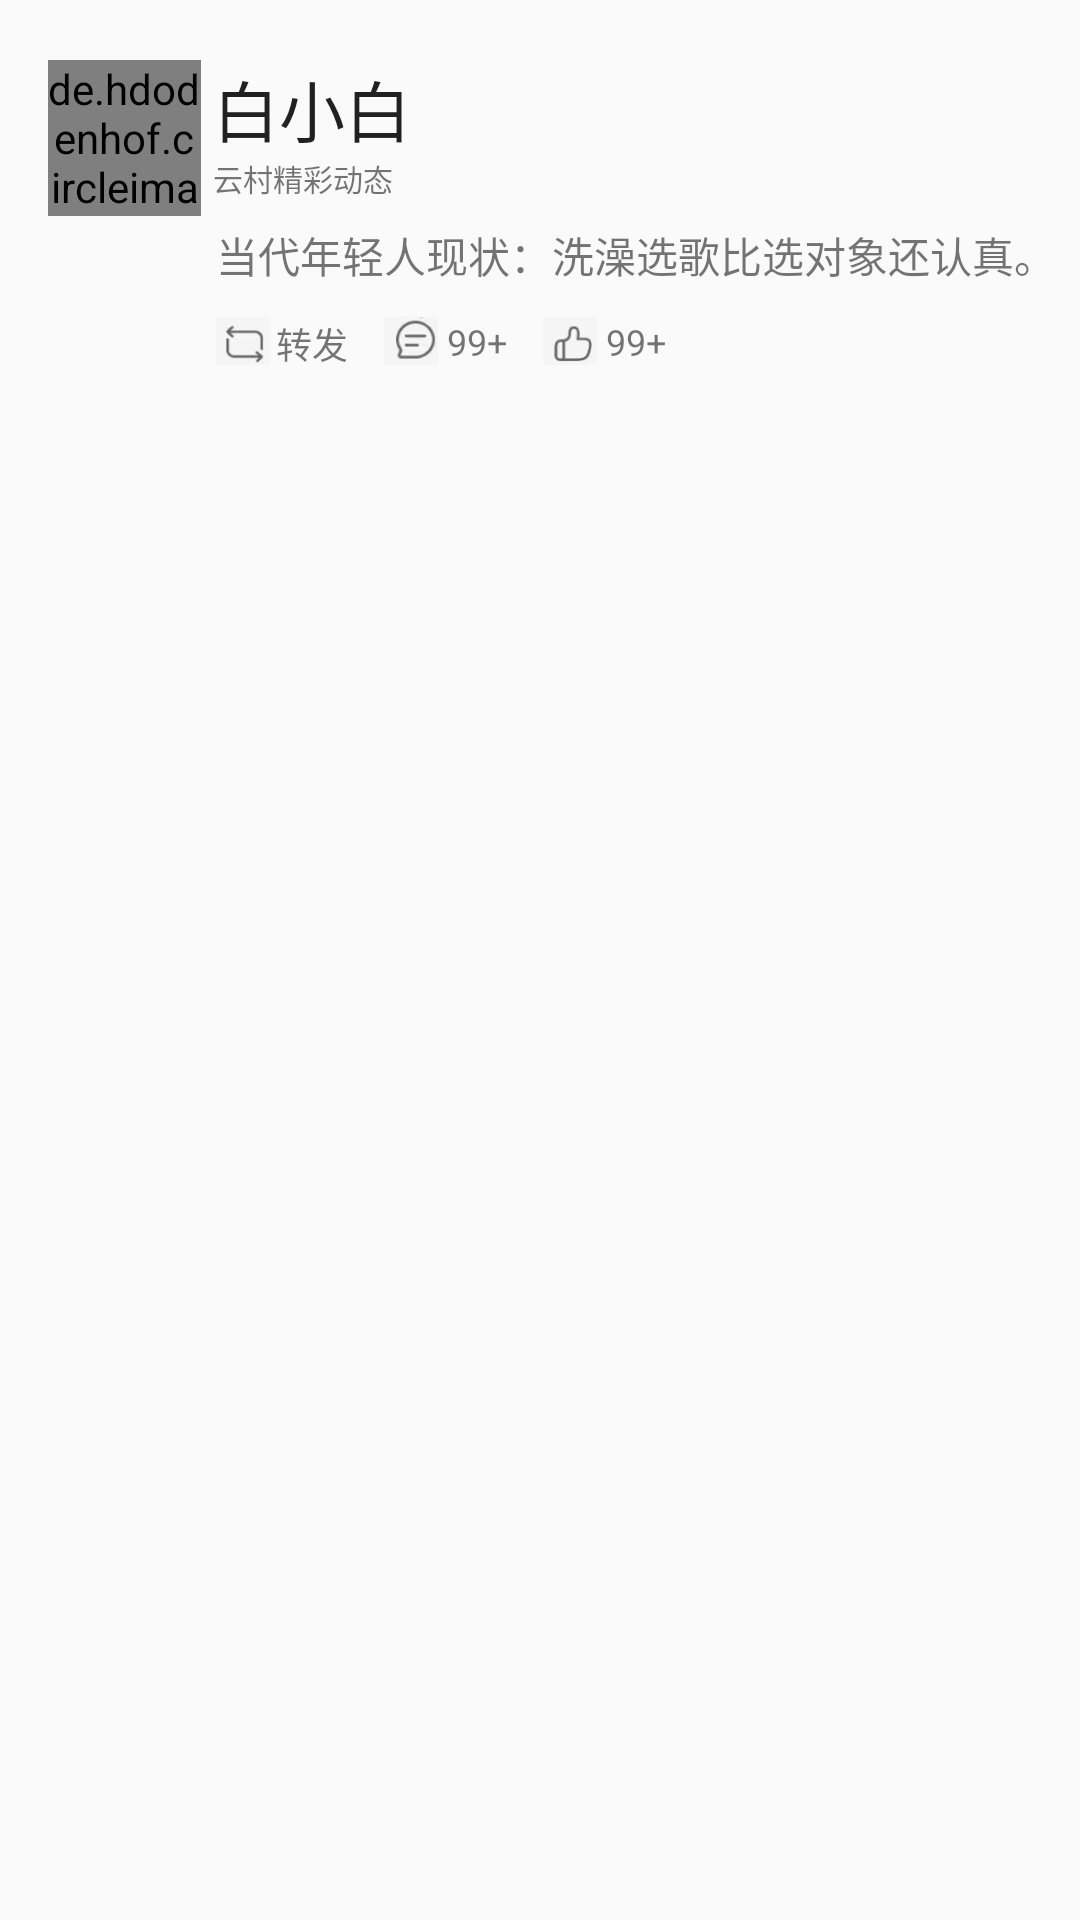

Named icons in this screenshot (1080 x 1920) and their centers, point (x, y):
attitionxiaoxi: point (415, 338)
dianzan: point (573, 343)
